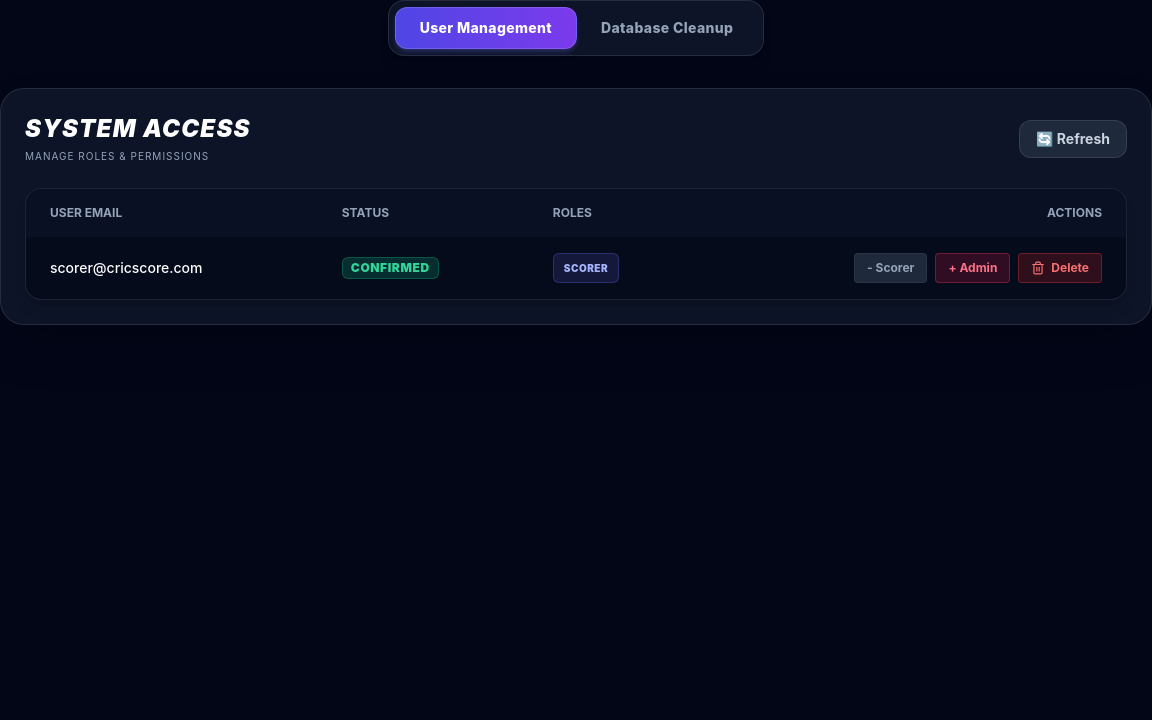
AdminPanel Component › handles role promotion action (+ Admin) successfully
Expected: the text "scorer@cricscore.com" is shown, [26,237,318,299]
Click the button "+ Admin" at (973, 268), box [935,253,1010,283]
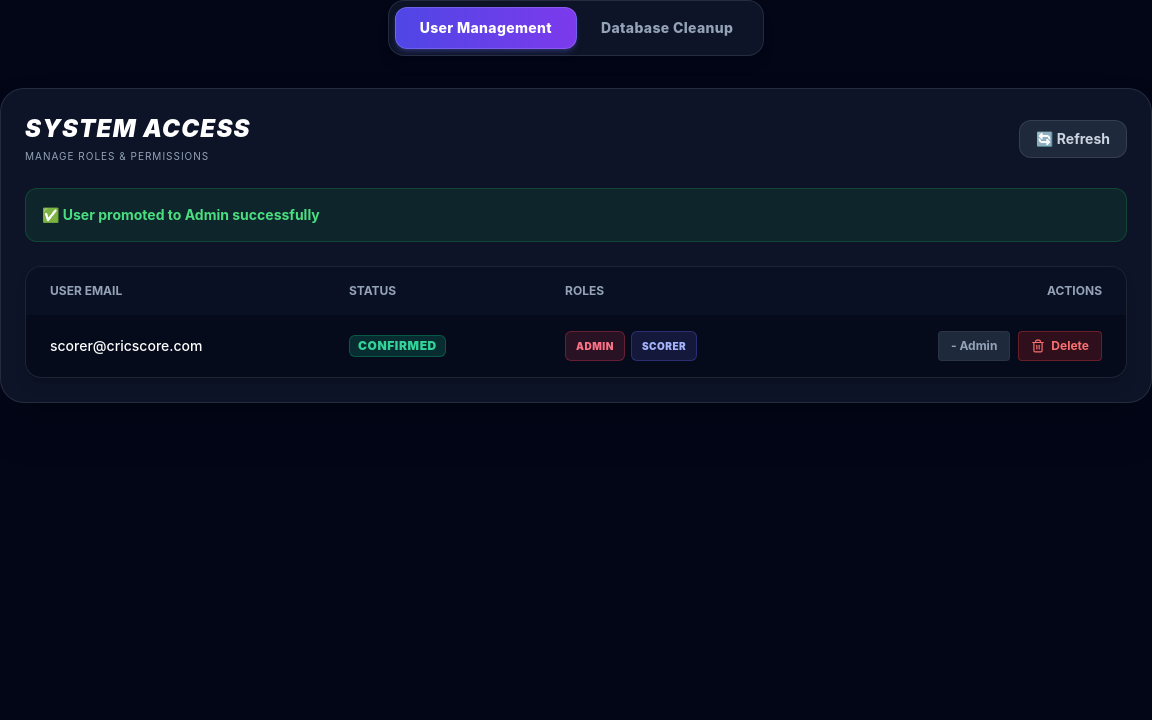
Expected: the text "✅ User promoted to Admin successfully" is shown, [25,188,1127,242]
